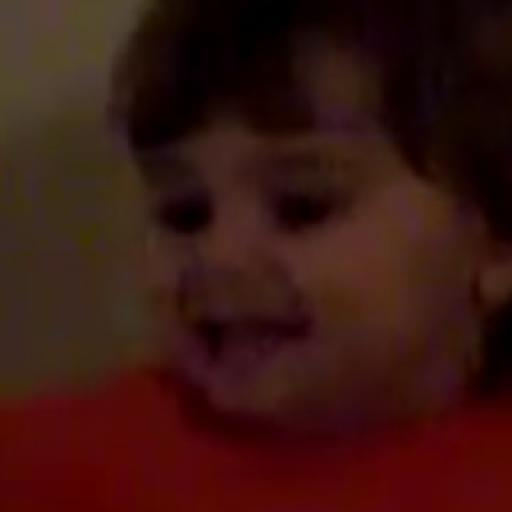Autism: (115, 5, 512, 438)
